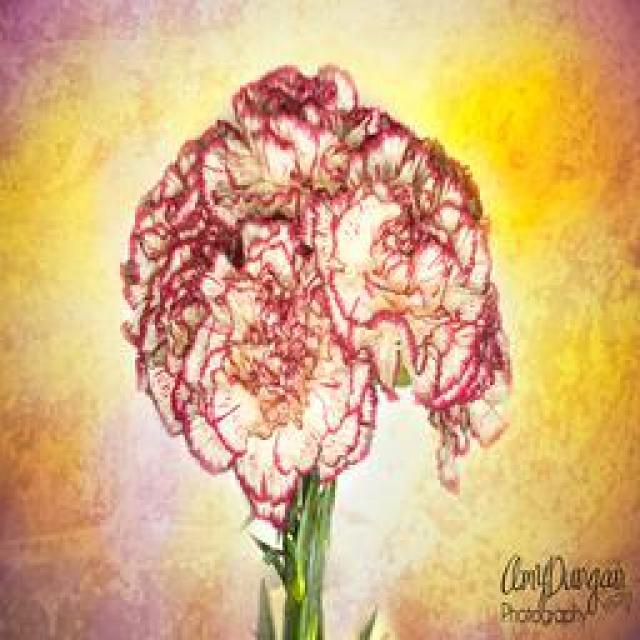carnation: (173, 227, 382, 518)
